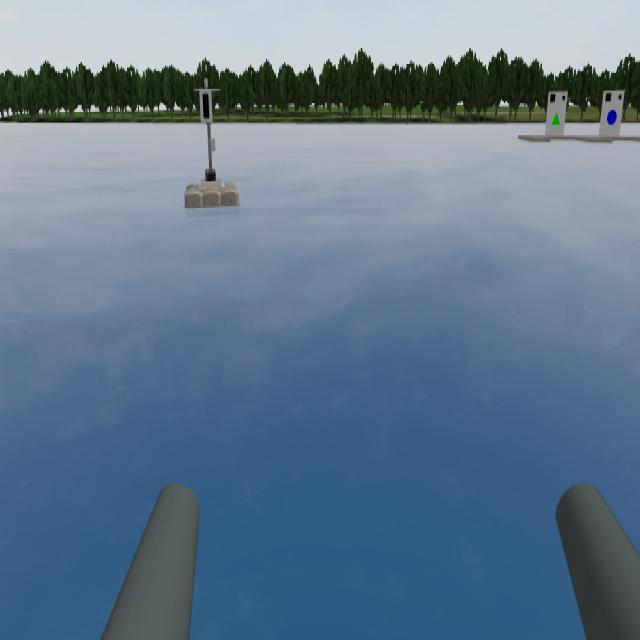dock: (602, 93, 624, 135), (549, 94, 567, 132)
post: (200, 86, 214, 122)
